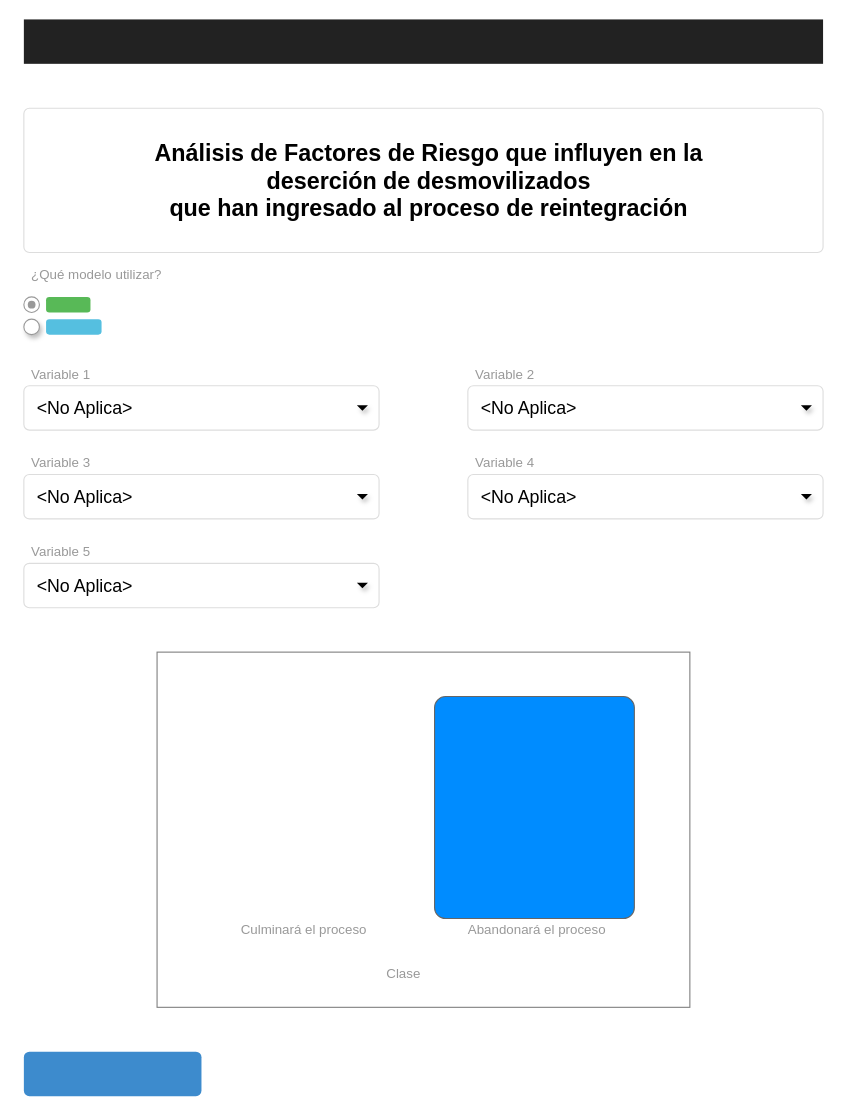
Image size: 842x1114. Some labels were removed from this diagram. The centre of each missing label's shape, as x and y in pixels:
"Complejo" belongs at (73,326).
"Realizar Clasificación" belongs at (112,1073).
"Simple" belongs at (68,304).
